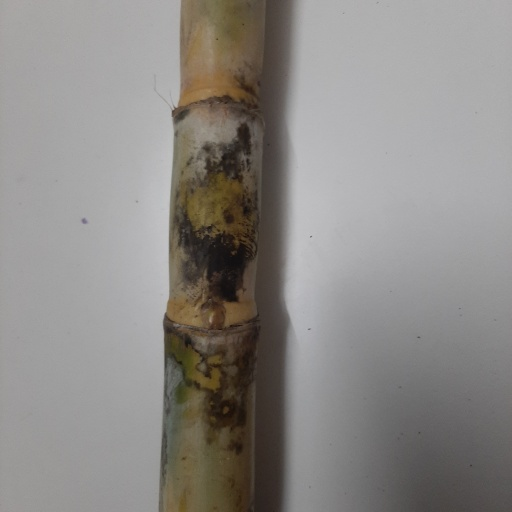Bud: (205, 304, 225, 328)
